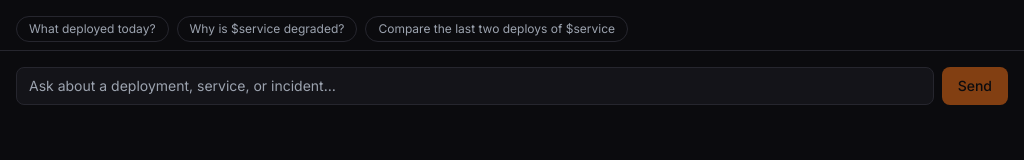
Test: Chat page › populates the input when a suggested prompt chip is clicked, without sending it
Click the button "What deployed today?" at [92, 29], box [16,16,168,42]
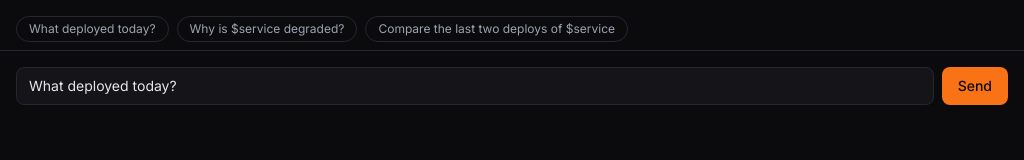
Check: the field with placeholder "Ask about a deployment, service, or incident…" holds "What deployed today?", box [16,67,934,105]
